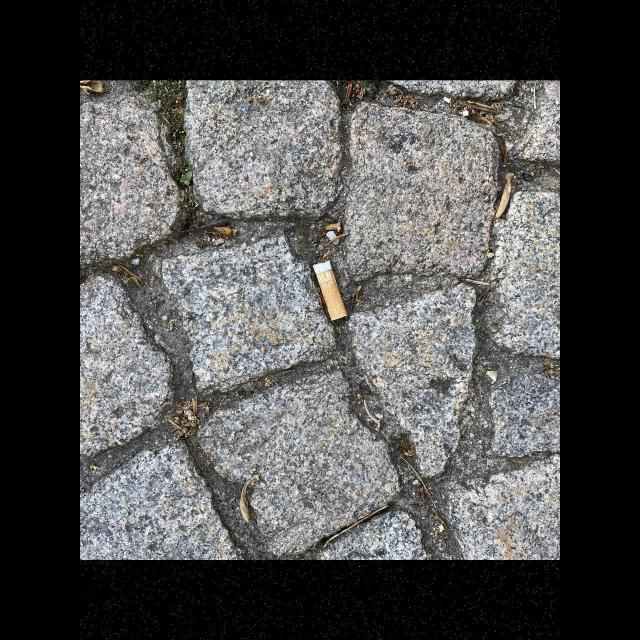cigarette: (313, 260, 348, 320)
